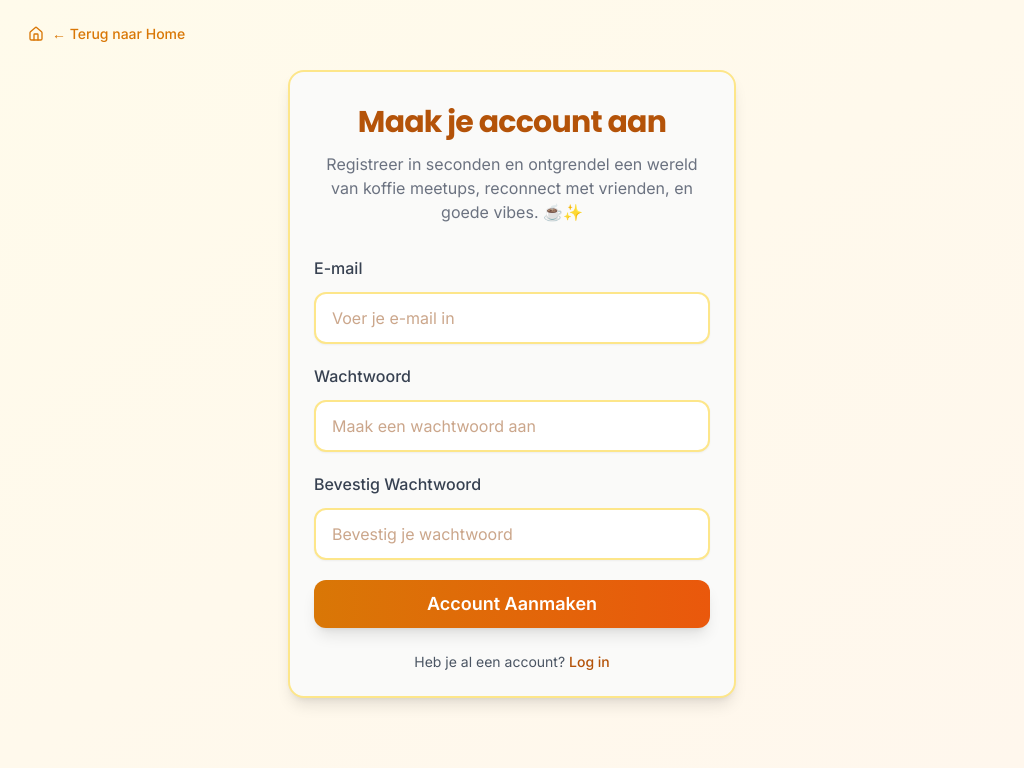
Scenario: SignUpPage › shows password mismatch error
Type "password123" into the password field labelled "Wachtwoord". click: [512, 426]
box: [314, 400, 710, 452]
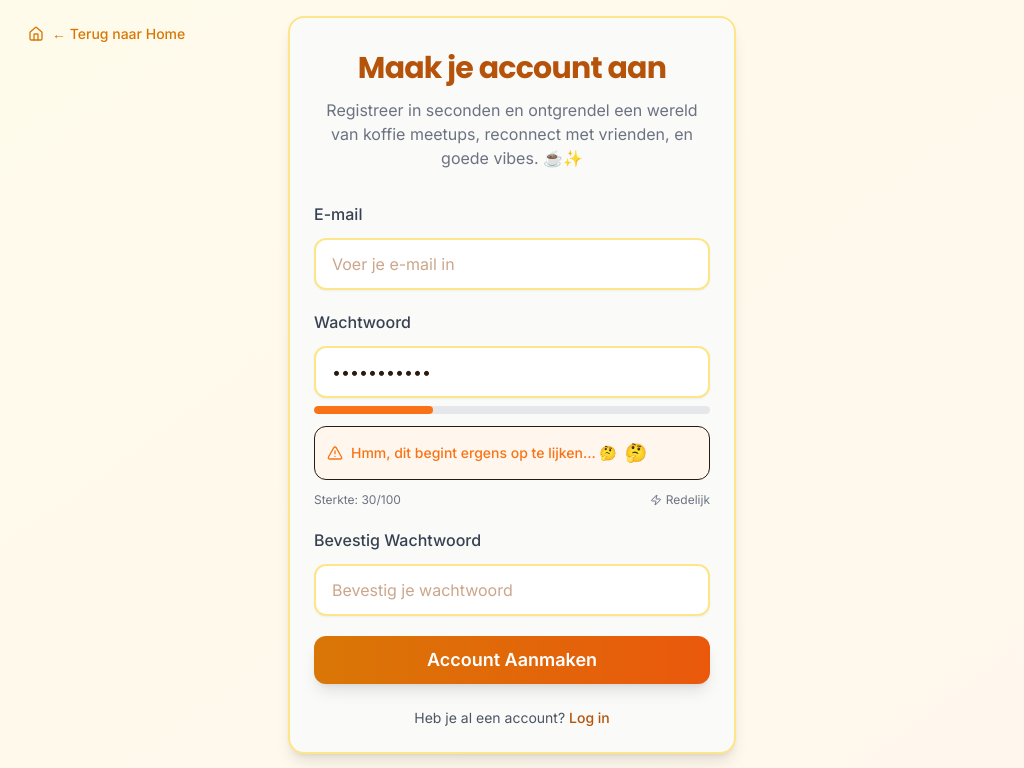
Type "password456" into the password field labelled "Bevestig Wachtwoord". click: [512, 590]
box: [314, 564, 710, 616]
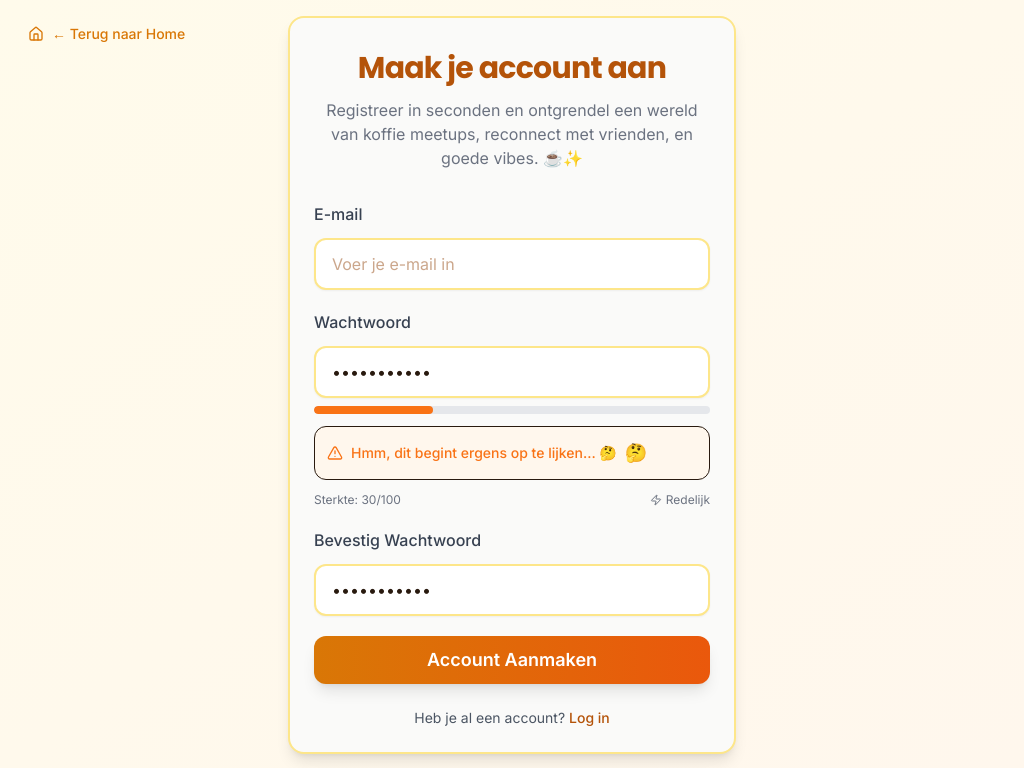
Leave the password field labelled "Bevestig Wachtwoord", box [314, 564, 710, 616]
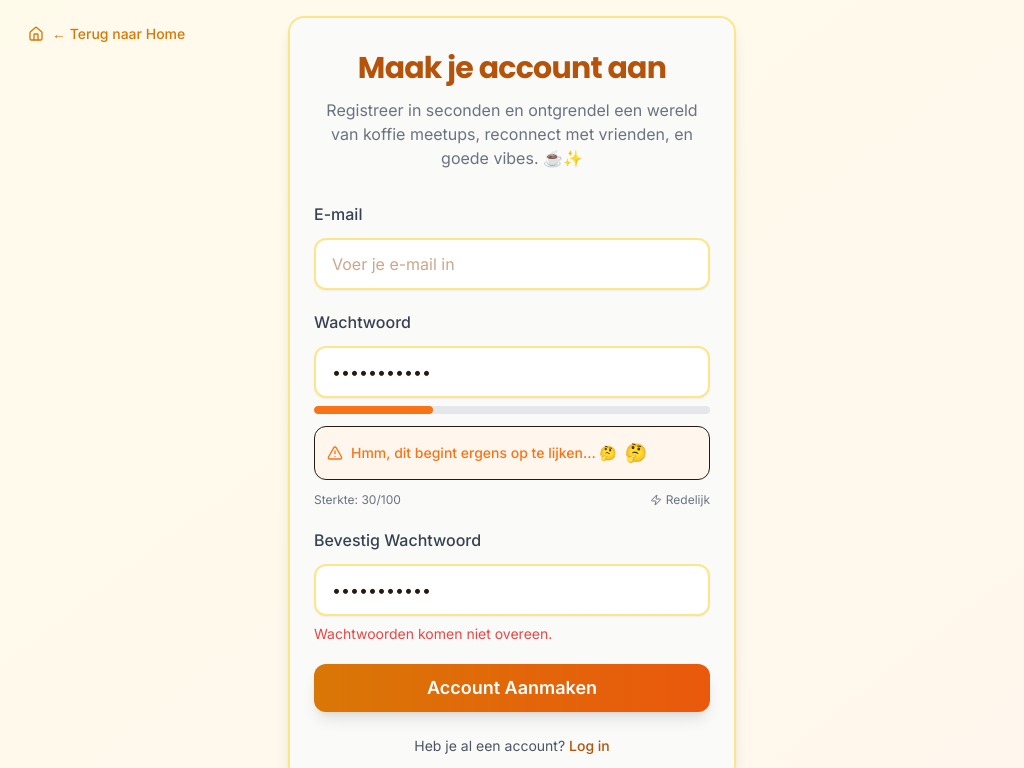
Result: the text "Wachtwoorden komen niet overeen." is shown at [314, 625, 552, 642]
